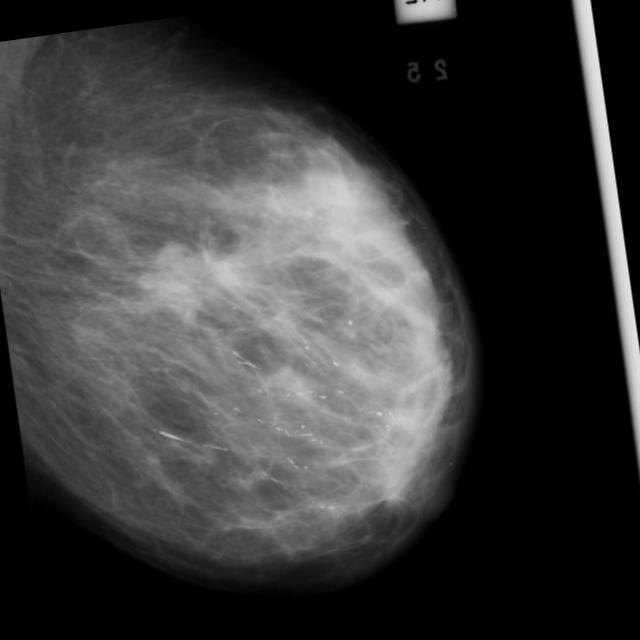SPIC: (74, 154, 320, 400)
